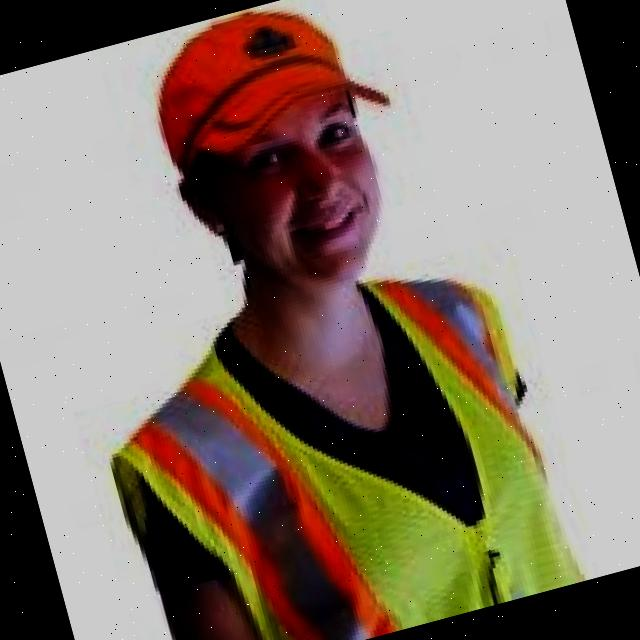vest: (80, 238, 596, 640)
